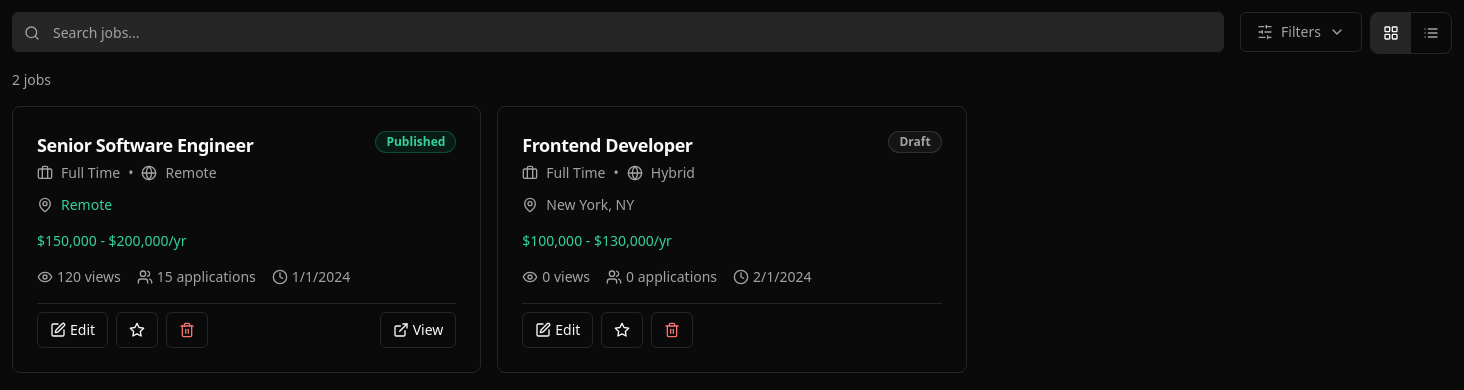
Scenario: JobList › filters jobs by search query
In the field with placeholder "Search jobs...": (618, 32) [12, 12, 1224, 52], type "Frontend"
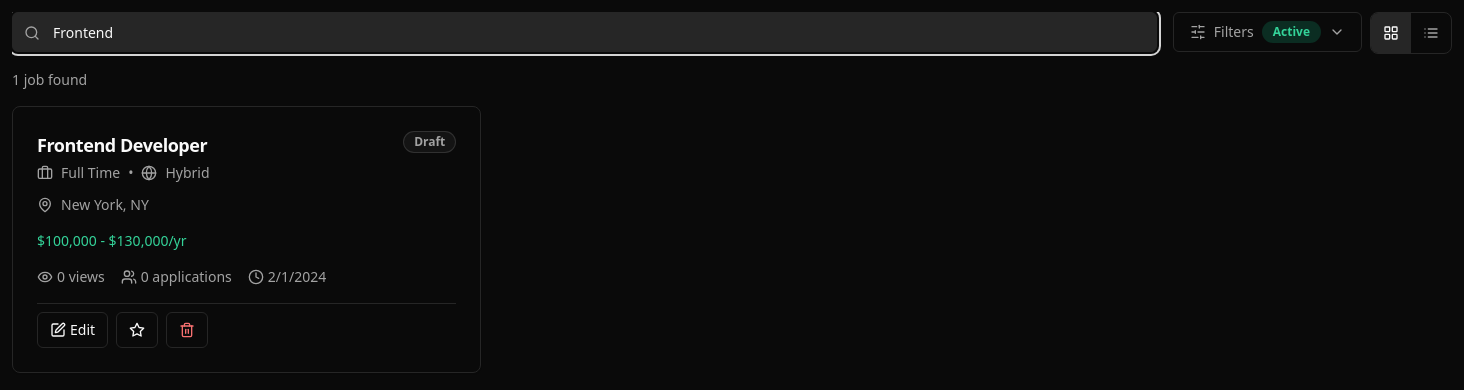
Expected: the heading "Frontend Developer" is shown, [37, 131, 207, 159]
Result: the heading "Senior Software Engineer" is gone
